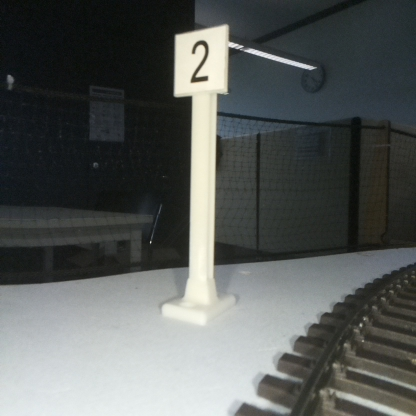white-info-2: (175, 32, 226, 314)
